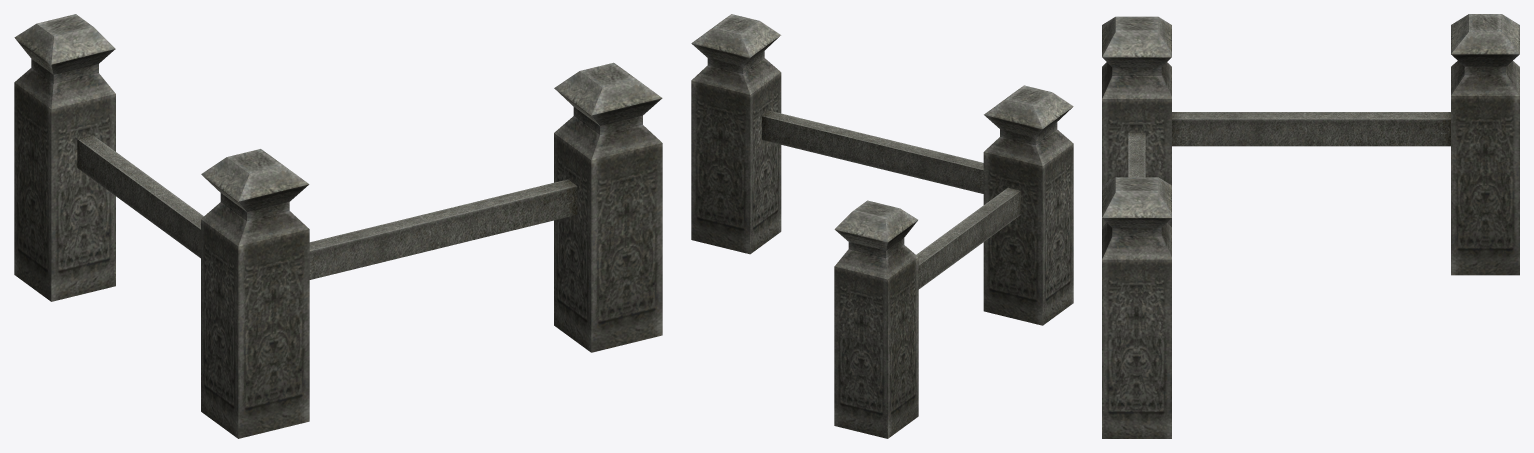
Rendered from stadium_02_01.glb.
The picture shows the model from 3 angles, left to right: view 1: azimuth 30°, elevation 25°; view 2: azimuth 150°, elevation 25°; view 3: azimuth 270°, elevation 25°; orthographic projection. The views are drawn at different scales.
Parts seen in each view (by area): view 1: stadium_02_01; view 2: stadium_02_01; view 3: stadium_02_01.
Part boxes in pixels (x1,y1,x2,y2): stadium_02_01: (14, 14, 662, 438); stadium_02_01: (691, 14, 1073, 438); stadium_02_01: (1102, 14, 1519, 438).
Bounding box in the file's own units: 6.26 × 3.6 × 5.73.
1 material, 1 textured.
